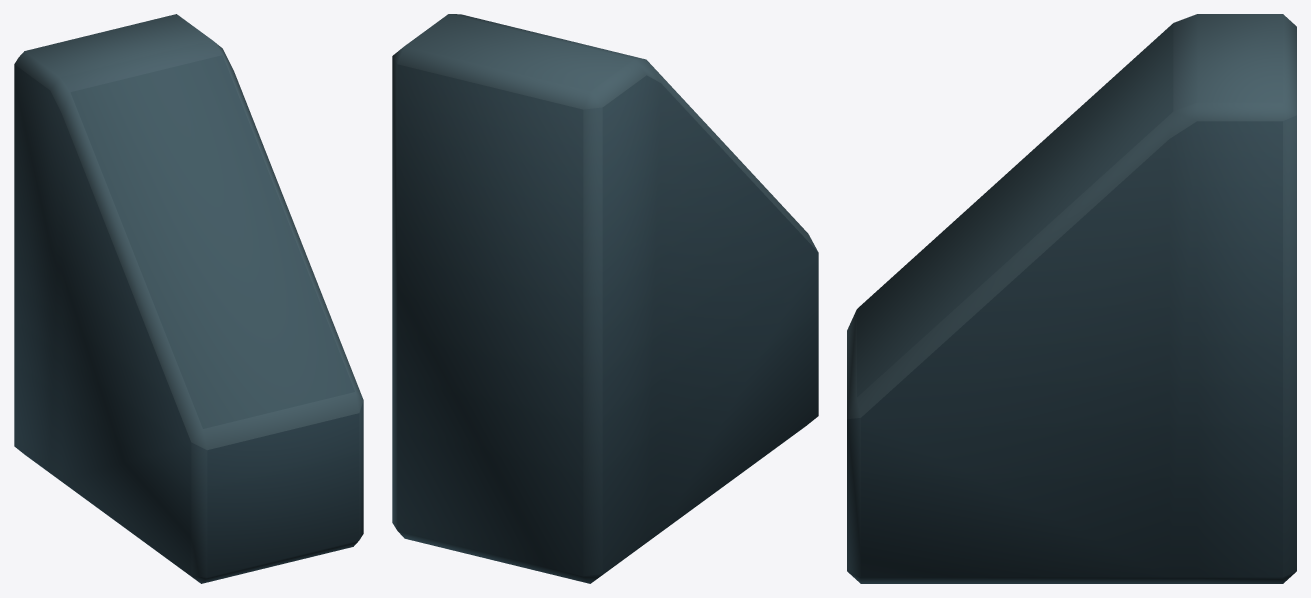
Rendered from stair_sidewall3.fbx.
The picture shows the model from 3 angles, left to right: view 1: azimuth 30°, elevation 25°; view 2: azimuth 150°, elevation 25°; view 3: azimuth 270°, elevation 25°; orthographic projection. The views are drawn at different scales.
Parts seen in each view (by area): view 1: stair_sidewall3; view 2: stair_sidewall3; view 3: stair_sidewall3.
Boxes of the visible parts, x1=… form: stair_sidewall3: x1=14, y1=14, x2=363, y2=583; stair_sidewall3: x1=392, y1=14, x2=818, y2=583; stair_sidewall3: x1=847, y1=14, x2=1296, y2=583.
Size of the model in its own units: 53.12 by 119 by 101.
